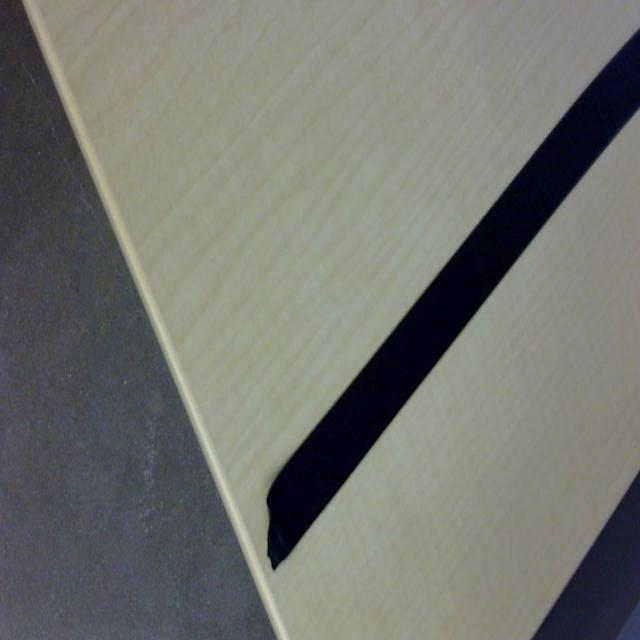tape: (242, 11, 640, 614)
